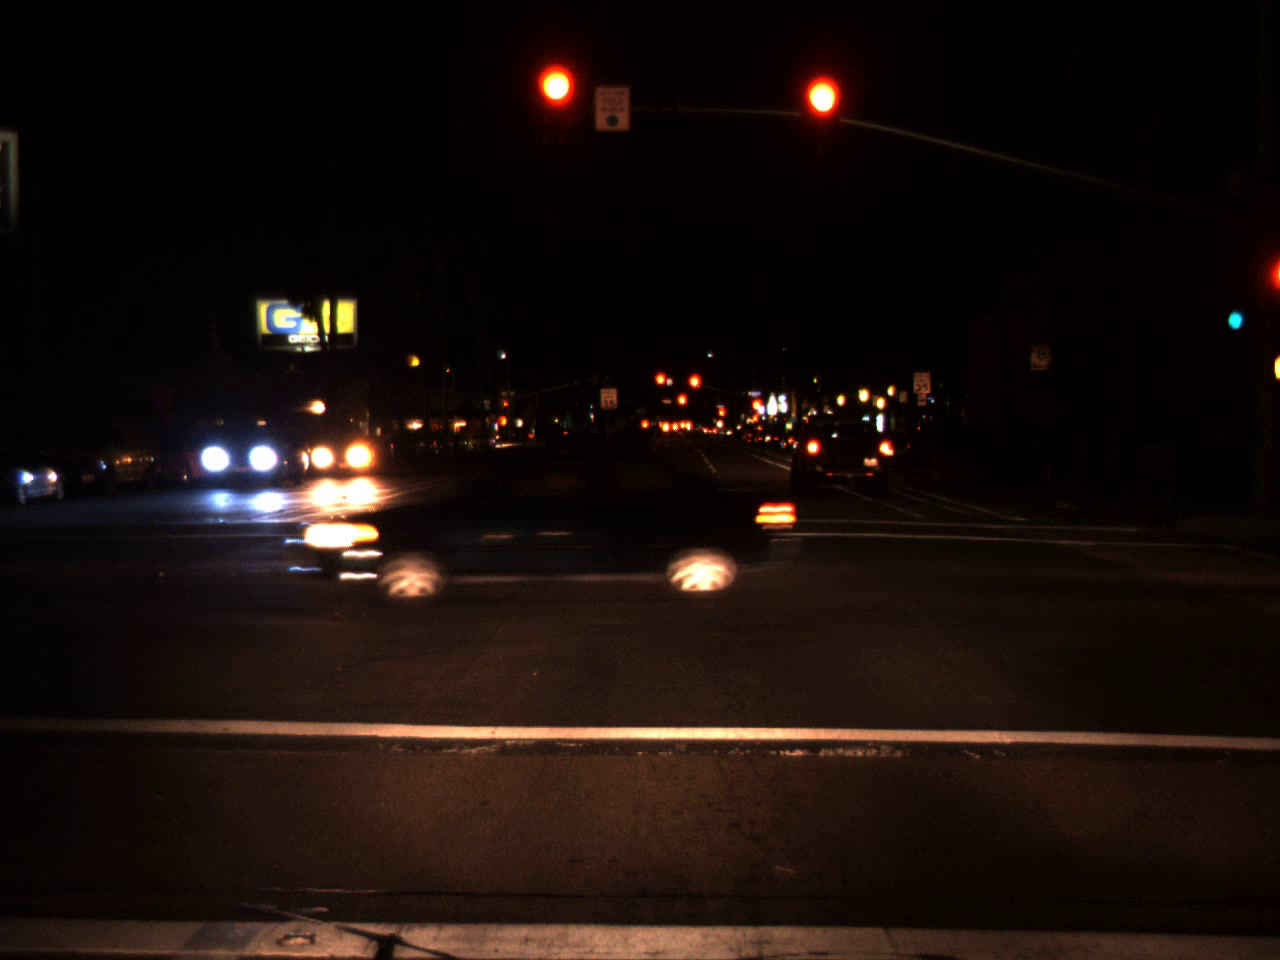stop: (537, 65, 577, 143), (803, 76, 842, 154), (686, 371, 702, 406), (653, 371, 668, 398), (675, 391, 688, 418), (750, 397, 763, 424), (717, 406, 727, 427), (503, 401, 509, 411)
